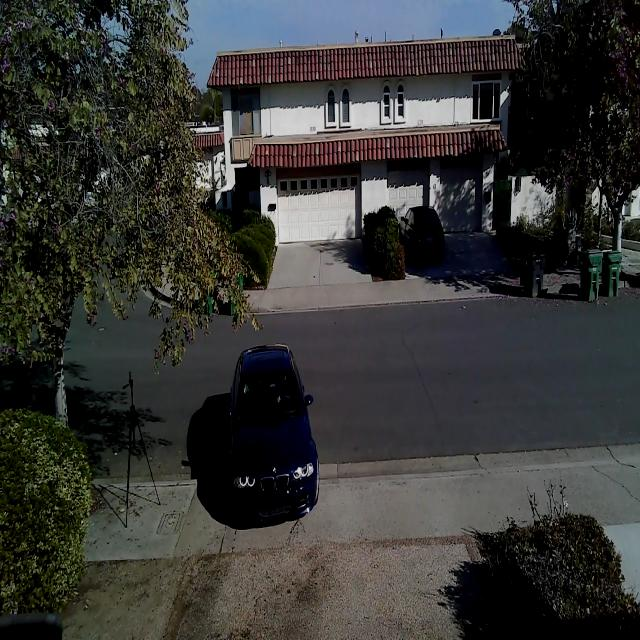Carbeetle: (210, 325, 332, 541)
